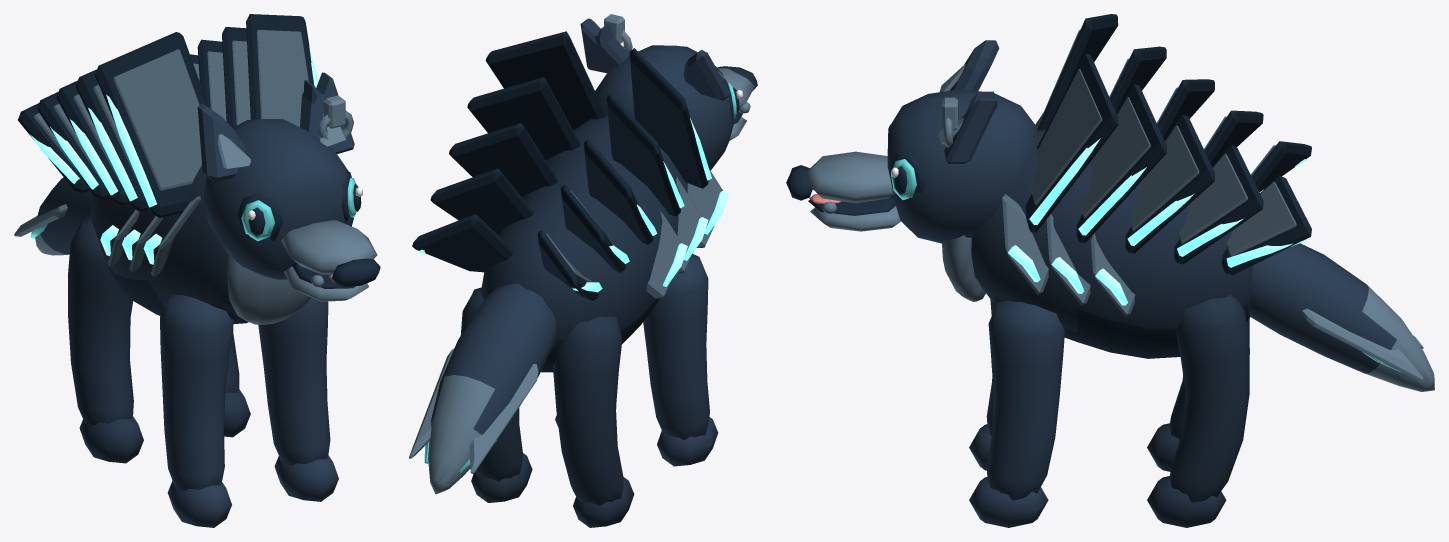
Rendered from wolf_3.glb.
The picture shows the model from 3 angles, left to right: view 1: azimuth 30°, elevation 25°; view 2: azimuth 150°, elevation 25°; view 3: azimuth 270°, elevation 25°; orthographic projection. The views are drawn at different scales.
Parts seen in each view (by area): view 1: Body, JawUpper, ArmL, ArmR, Glow, Tails, JawLower; view 2: Body, Tails, ArmL, JawUpper, Glow; view 3: Body, JawUpper, ArmR, Tails, Glow, JawLower, ArmL.
Boxes of the visible parts, x1,y1,x2,y2 form: Body: (18, 14, 313, 463); JawUpper: (197, 72, 380, 287); ArmL: (160, 294, 233, 527); ArmR: (258, 298, 338, 501); Glow: (30, 46, 318, 264); Tails: (14, 177, 92, 255); JawLower: (284, 262, 368, 301); Body: (412, 31, 723, 527); Tails: (409, 283, 556, 494); ArmL: (643, 254, 718, 466); JawUpper: (580, 14, 757, 170); Glow: (418, 118, 728, 292); Body: (942, 14, 1311, 527); JawUpper: (786, 40, 1037, 243); ArmR: (969, 301, 1064, 527); Tails: (1249, 243, 1434, 391); Glow: (1008, 138, 1306, 305); JawLower: (808, 193, 900, 231); ArmL: (969, 299, 996, 470).
Bounding box in the file's own units: 2.46 × 5.15 × 6.53.
